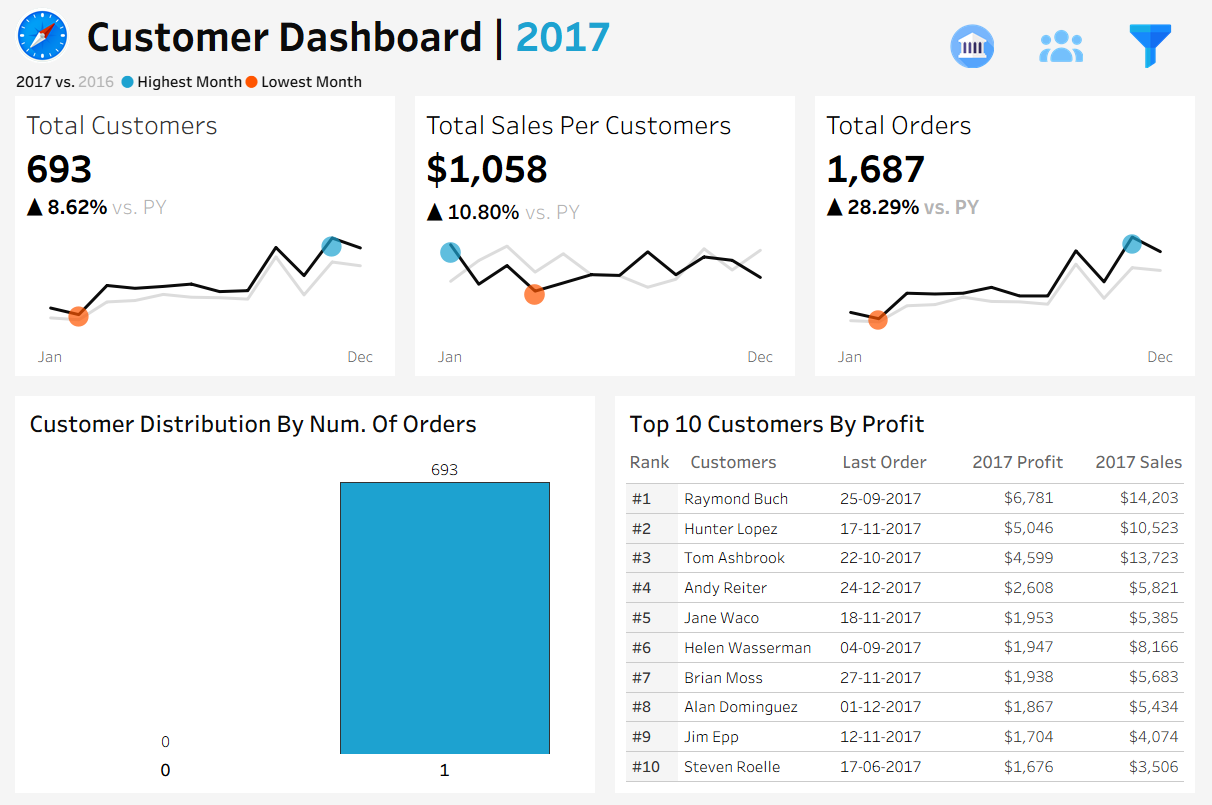

The page's visual inventory and layout, read from the dashboard file:
{"tool":"tableau","page":{"name":"Customer Dashboard","canvas":[1200,800],"ordinal":0},"visuals":[{"type":"image","param":"Image/Icon - Logo.png","box":[0,0,74,64]},{"type":"text","box":[74,0,1126,64]},{"type":"dashboard-object","box":[923,17,89,52]},{"type":"dashboard-object","box":[1012,17,89,52]},{"type":"dashboard-object","box":[1101,17,88,52]},{"type":"worksheet","title":"Legend KPI","mark":"Automatic","box":[0,64,1200,29]},{"type":"worksheet","title":"KPI Customers","mark":"Automatic","rows":["Calculation_0976124892037123"],"cols":["Order Date"],"box":[0,93,400,290]},{"type":"worksheet","title":"KPI Sales Per Customers","mark":"Automatic","rows":["Calculation_0976124906364945"],"cols":["Order Date"],"box":[400,93,400,290]},{"type":"worksheet","title":"KPI Orders","mark":"Automatic","rows":["Calculation_1090749254623238"],"cols":["Order Date"],"box":[800,93,400,290]},{"type":"text","box":[1002,102,188,40]},{"type":"parameter","param":"[Parameters].[Parameter 0677057360883715]","box":[1002,142,188,56]},{"type":"blank","box":[1002,198,188,47]},{"type":"text","box":[1002,245,188,33]},{"type":"filter","title":"KPI Customers","param":"[federated.03lqwms1da99tl13jp2m616k03if].[none:Category:nk]","box":[1002,278,188,61]},{"type":"filter","title":"KPI Customers","param":"[federated.03lqwms1da99tl13jp2m616k03if].[none:Sub-Category:nk]","box":[1002,339,188,61]},{"type":"text","box":[17,400,566,40]},{"type":"text","box":[617,400,566,40]},{"type":"blank","box":[1002,400,188,47]},{"type":"worksheet","title":"Customer Distribution","mark":"Bar","rows":["Calculation_0976124886044672"],"cols":["Calculation_1090749275086859"],"box":[17,440,566,343]},{"type":"text","box":[617,440,61,36]},{"type":"text","box":[678,440,152,36]},{"type":"text","box":[830,440,130,36]},{"type":"text","box":[960,440,123,36]},{"type":"text","box":[1083,440,100,36]},{"type":"text","box":[1002,447,188,33]},{"type":"worksheet","title":"Top Customers","mark":"Automatic","rows":["Calculation_1090749282172941","Customer Name","Order Date"],"box":[617,476,566,307]},{"type":"filter","title":"KPI Customers","param":"[federated.03lqwms1da99tl13jp2m616k03if].[none:Region:nk]","box":[1002,480,188,61]},{"type":"filter","title":"KPI Customers","param":"[federated.03lqwms1da99tl13jp2m616k03if].[none:State:nk]","box":[1002,541,188,61]},{"type":"filter","title":"KPI Customers","param":"[federated.03lqwms1da99tl13jp2m616k03if].[none:City:nk]","box":[1002,602,188,61]}]}

Visuals, with their boxes in screenshot pixels (x1, y1, x2, y2), scaled from the page's 1200x800 canvas onto the 1212x805 screenshot:
image: select_region(0, 0, 75, 64)
text: select_region(75, 0, 1211, 64)
dashboard-object: select_region(932, 17, 1022, 69)
dashboard-object: select_region(1022, 17, 1112, 69)
dashboard-object: select_region(1112, 17, 1201, 69)
"Legend KPI" worksheet: select_region(0, 64, 1211, 94)
"KPI Customers" worksheet: select_region(0, 94, 404, 385)
"KPI Sales Per Customers" worksheet: select_region(404, 94, 808, 385)
"KPI Orders" worksheet: select_region(808, 94, 1211, 385)
text: select_region(1012, 103, 1202, 143)
parameter: select_region(1012, 143, 1202, 199)
blank: select_region(1012, 199, 1202, 247)
text: select_region(1012, 247, 1202, 280)
"KPI Customers" filter: select_region(1012, 280, 1202, 341)
"KPI Customers" filter: select_region(1012, 341, 1202, 403)
text: select_region(17, 403, 589, 443)
text: select_region(623, 403, 1195, 443)
blank: select_region(1012, 403, 1202, 450)
"Customer Distribution" worksheet (Bar marks): select_region(17, 443, 589, 788)
text: select_region(623, 443, 685, 479)
text: select_region(685, 443, 838, 479)
text: select_region(838, 443, 970, 479)
text: select_region(970, 443, 1094, 479)
text: select_region(1094, 443, 1195, 479)
text: select_region(1012, 450, 1202, 483)
"Top Customers" worksheet: select_region(623, 479, 1195, 788)
"KPI Customers" filter: select_region(1012, 483, 1202, 544)
"KPI Customers" filter: select_region(1012, 544, 1202, 606)
"KPI Customers" filter: select_region(1012, 606, 1202, 667)
